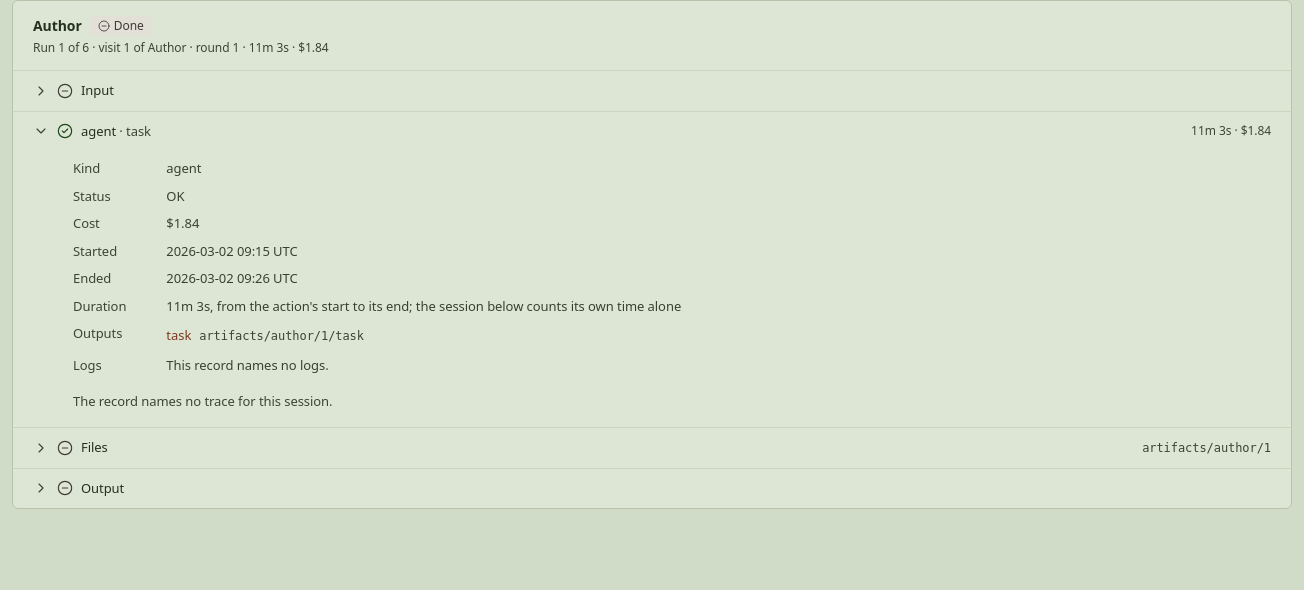
the input and the output › a first visit, or one whose transition hands no report, has none
The image size is (1304, 590).
Click the button "Input" at (97, 90), box [13, 71, 1291, 110]
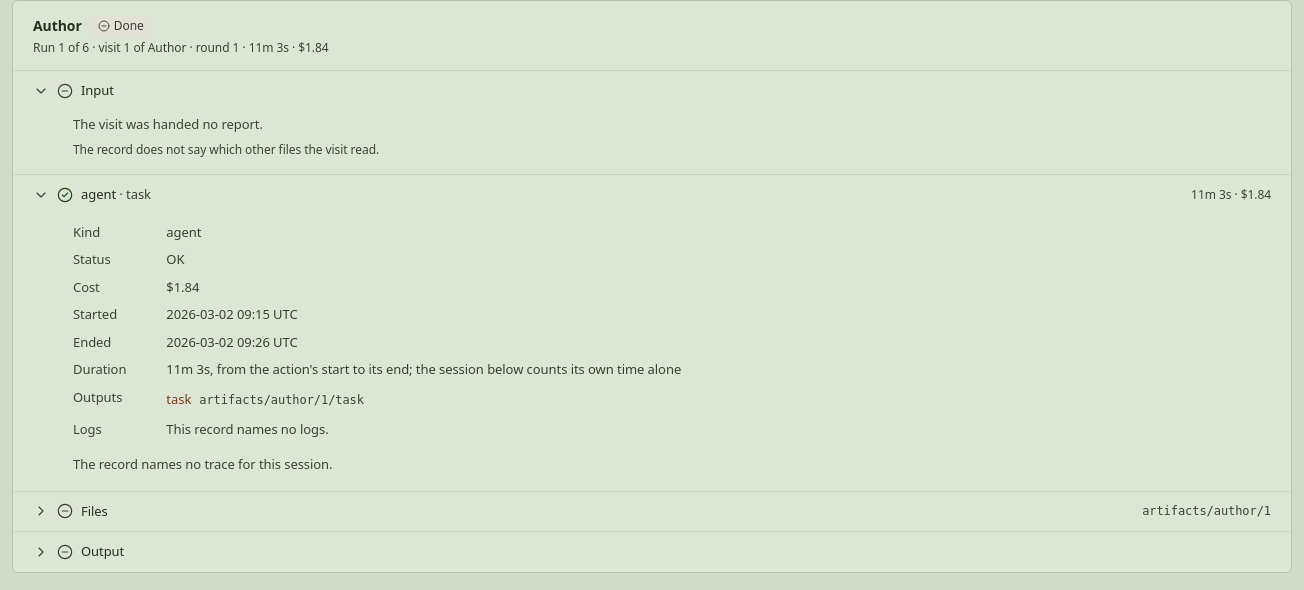
Check: the text "The visit was handed no report." is shown, box [73, 114, 263, 132]
